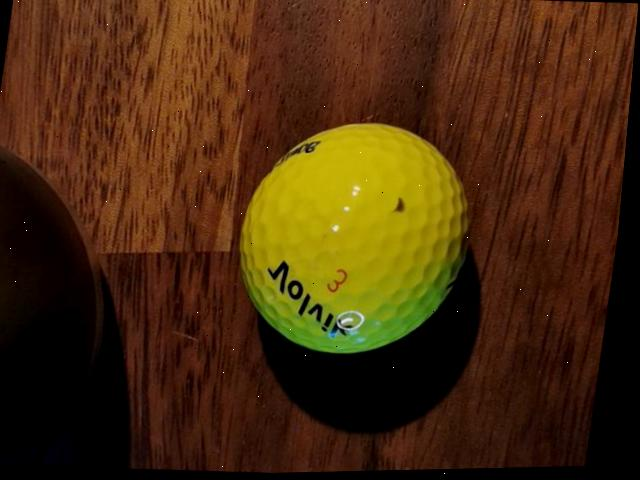Ball: (231, 114, 488, 364)
Volvik: (265, 259, 369, 341)
